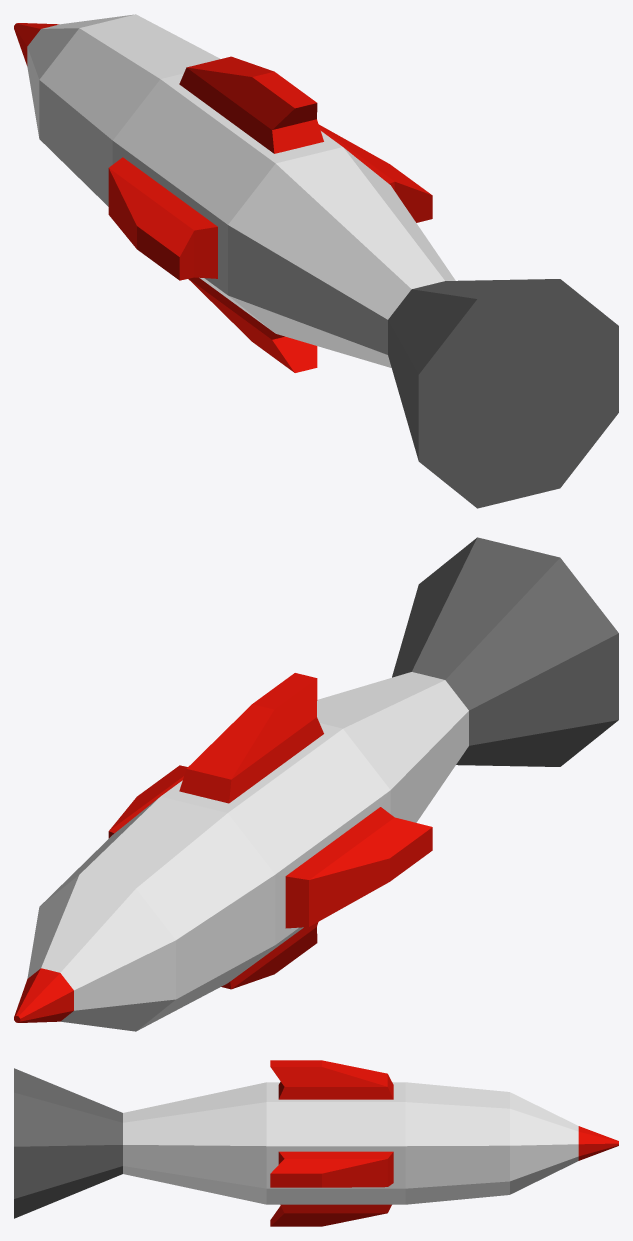
Rendered from rocket.fbx.
3 views of the same model, one above another, from view 1: azimuth 30°, elevation 25°; view 2: azimuth 150°, elevation 25°; view 3: azimuth 270°, elevation 25° (orthographic). The views are drawn at different scales.
Visible parts, largest first — view 1: Cylinder; view 2: Cylinder; view 3: Cylinder.
Boxes of the visible parts, x1,y1,x2,y2 form: Cylinder: (14,14,618,508); Cylinder: (14,537,618,1031); Cylinder: (14,1060,618,1226).
Size of the model in its own units: 125 by 125 by 431.
